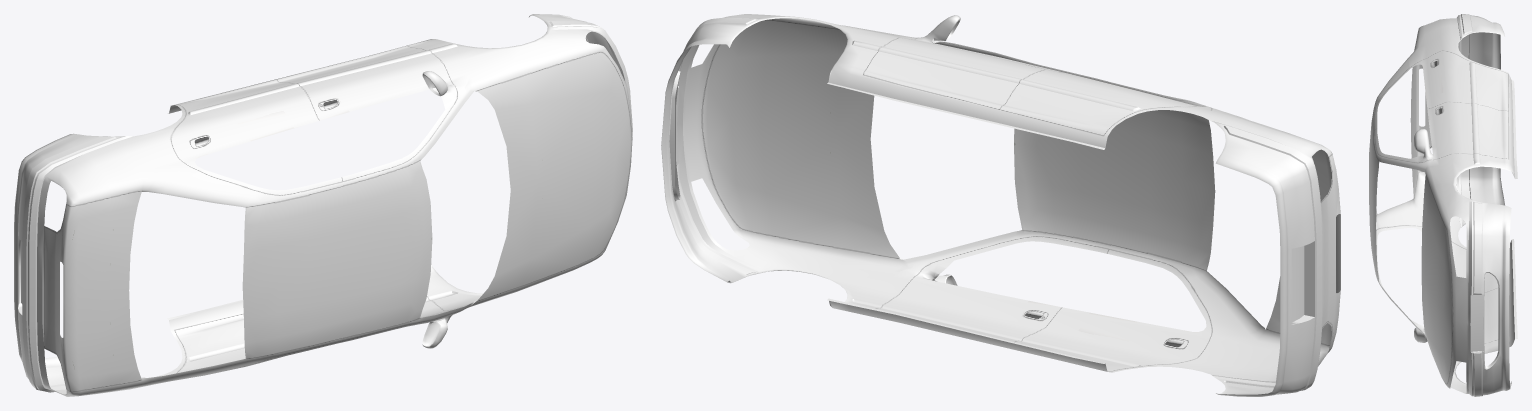
The model's file is body.obj.
The picture shows the model from 3 angles, left to right: view 1: azimuth 30°, elevation 25°; view 2: azimuth 150°, elevation 25°; view 3: azimuth 270°, elevation 25°; orthographic projection. The views are drawn at different scales.
Bounding box in the file's own units: 4.64 × 2 × 1.26.
1 material, 1 textured.
